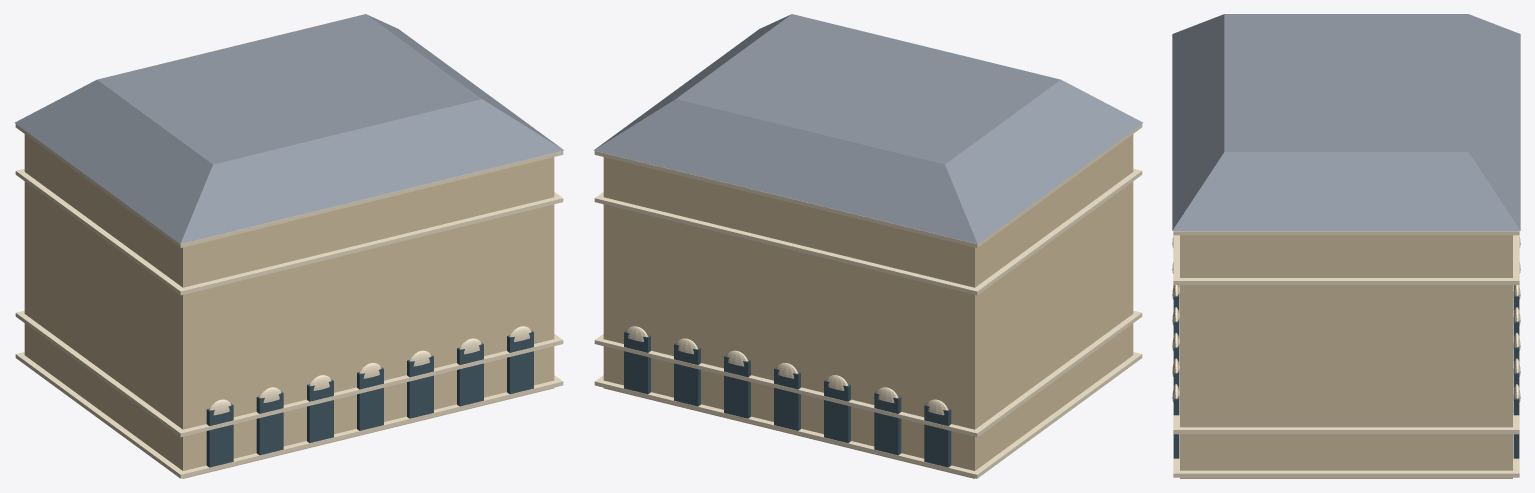
The model's file is heritage-1-lod2.glb.
3 views of the same model, side by side, from view 1: azimuth 30°, elevation 25°; view 2: azimuth 150°, elevation 25°; view 3: azimuth 270°, elevation 25° (orthographic). The views are drawn at different scales.
Visible parts, largest first — view 1: heritage-1_architecture; view 2: heritage-1_architecture; view 3: heritage-1_architecture.
Part boxes in pixels (x1=…): heritage-1_architecture: x1=14, y1=14, x2=563, y2=478; heritage-1_architecture: x1=594, y1=14, x2=1143, y2=478; heritage-1_architecture: x1=1172, y1=14, x2=1520, y2=478.
Size of the model in its own units: 23.8 by 16.95 by 17.8.
